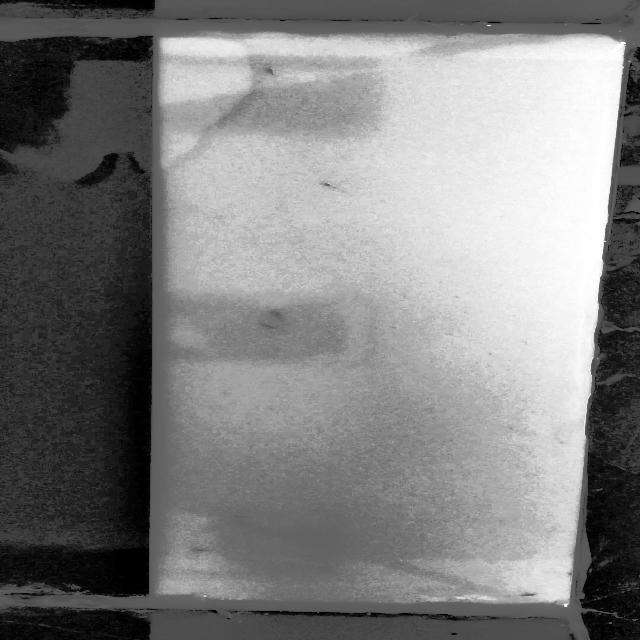shrimp: (260, 65, 290, 82), (320, 177, 344, 193), (226, 513, 259, 521), (262, 308, 288, 318), (517, 591, 541, 601), (256, 321, 280, 331), (190, 548, 210, 555)
